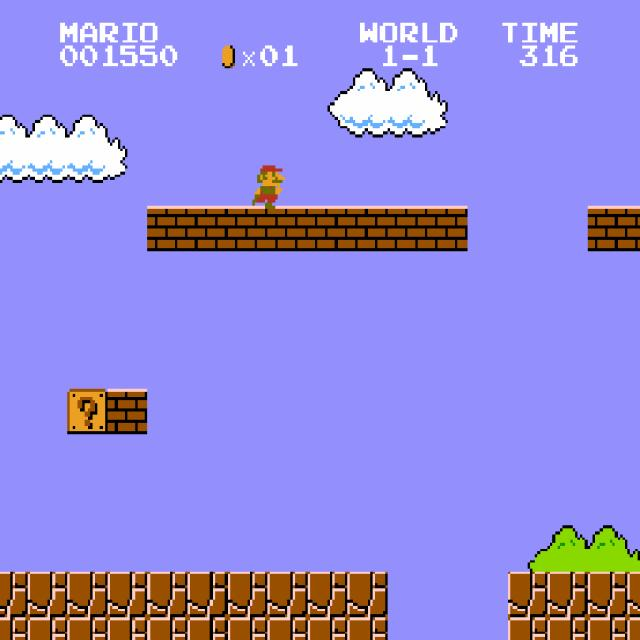brick_block: (107, 389, 148, 434), (147, 206, 188, 251), (187, 206, 228, 251), (227, 206, 268, 251), (267, 206, 308, 251), (307, 206, 348, 251), (347, 206, 388, 251), (387, 206, 428, 251), (427, 206, 468, 251), (587, 206, 628, 251), (627, 206, 640, 251)
little_mario: (245, 160, 287, 208)
mystery_block: (67, 389, 108, 434)
undestructible_block: (27, 572, 68, 617), (67, 572, 108, 617), (107, 572, 148, 617), (147, 572, 188, 617), (187, 572, 228, 617), (227, 572, 268, 617), (267, 572, 308, 617), (307, 572, 348, 617), (347, 572, 388, 617), (507, 572, 548, 617), (547, 572, 588, 617), (587, 572, 628, 617), (0, 572, 28, 617), (27, 617, 68, 640), (67, 617, 108, 640), (107, 617, 148, 640), (147, 617, 188, 640), (187, 617, 228, 640), (227, 617, 268, 640), (267, 617, 308, 640), (307, 617, 348, 640), (347, 617, 388, 640), (507, 617, 548, 640), (547, 617, 588, 640), (587, 617, 628, 640), (0, 617, 28, 640), (627, 572, 640, 617), (627, 617, 640, 640)
